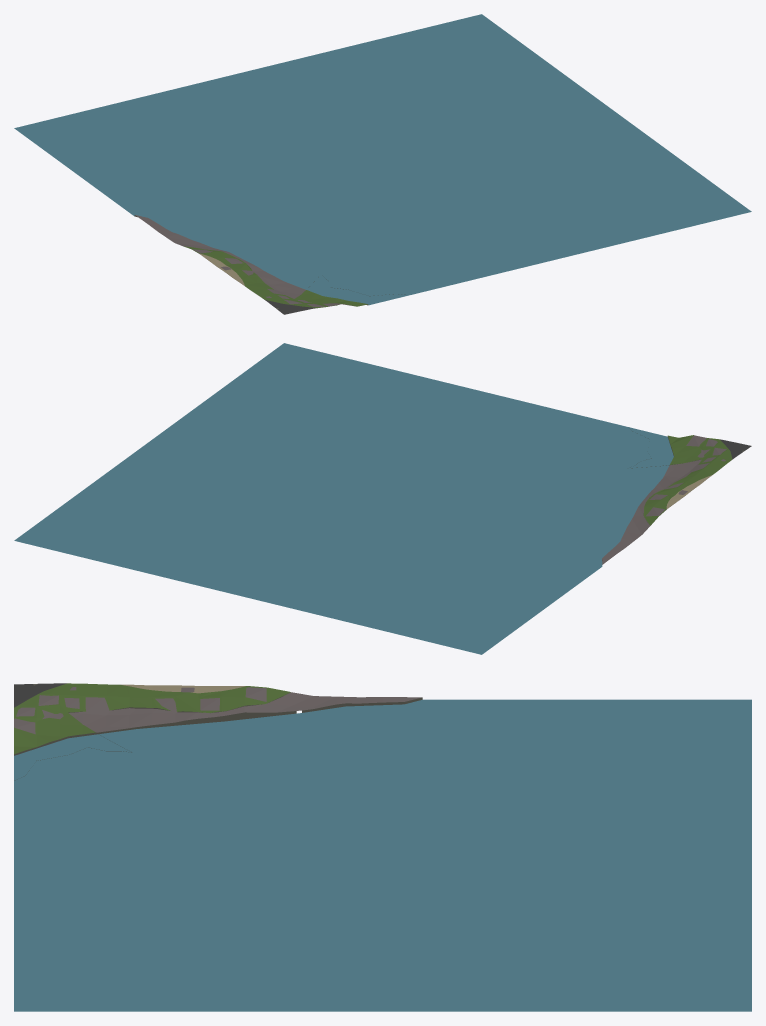
The picture shows the model from 3 angles, top to bottom: view 1: azimuth 30°, elevation 25°; view 2: azimuth 150°, elevation 25°; view 3: azimuth 270°, elevation 25°; orthographic projection. The views are drawn at different scales.
Visible parts, largest first — view 1: append:c_m09_m08, c_m09_m08; view 2: append:c_m09_m08, c_m09_m08; view 3: append:c_m09_m08, c_m09_m08.
Boxes of the visible parts, x1,y1,x2,y2 form: append:c_m09_m08: (14, 14, 637, 245); c_m09_m08: (134, 128, 751, 314); append:c_m09_m08: (14, 426, 647, 654); c_m09_m08: (170, 343, 751, 560); append:c_m09_m08: (296, 693, 751, 1011); c_m09_m08: (14, 683, 422, 1011).
Size of the model in its own units: 128 by 3.13 by 128.
